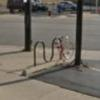bicycles: (52, 34, 74, 61)
